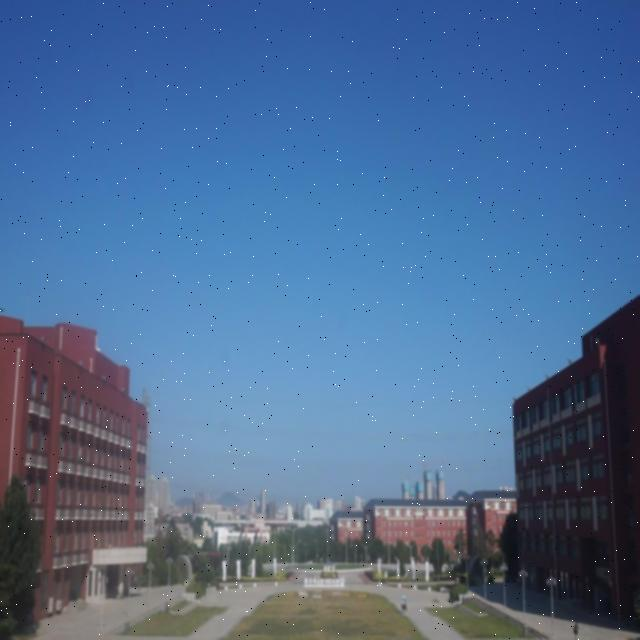UAV: (0, 307, 5, 312)
